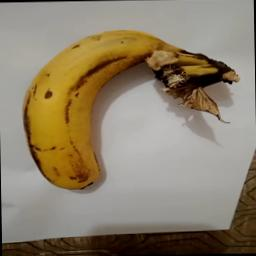Banana Unripe: (18, 26, 244, 192)
